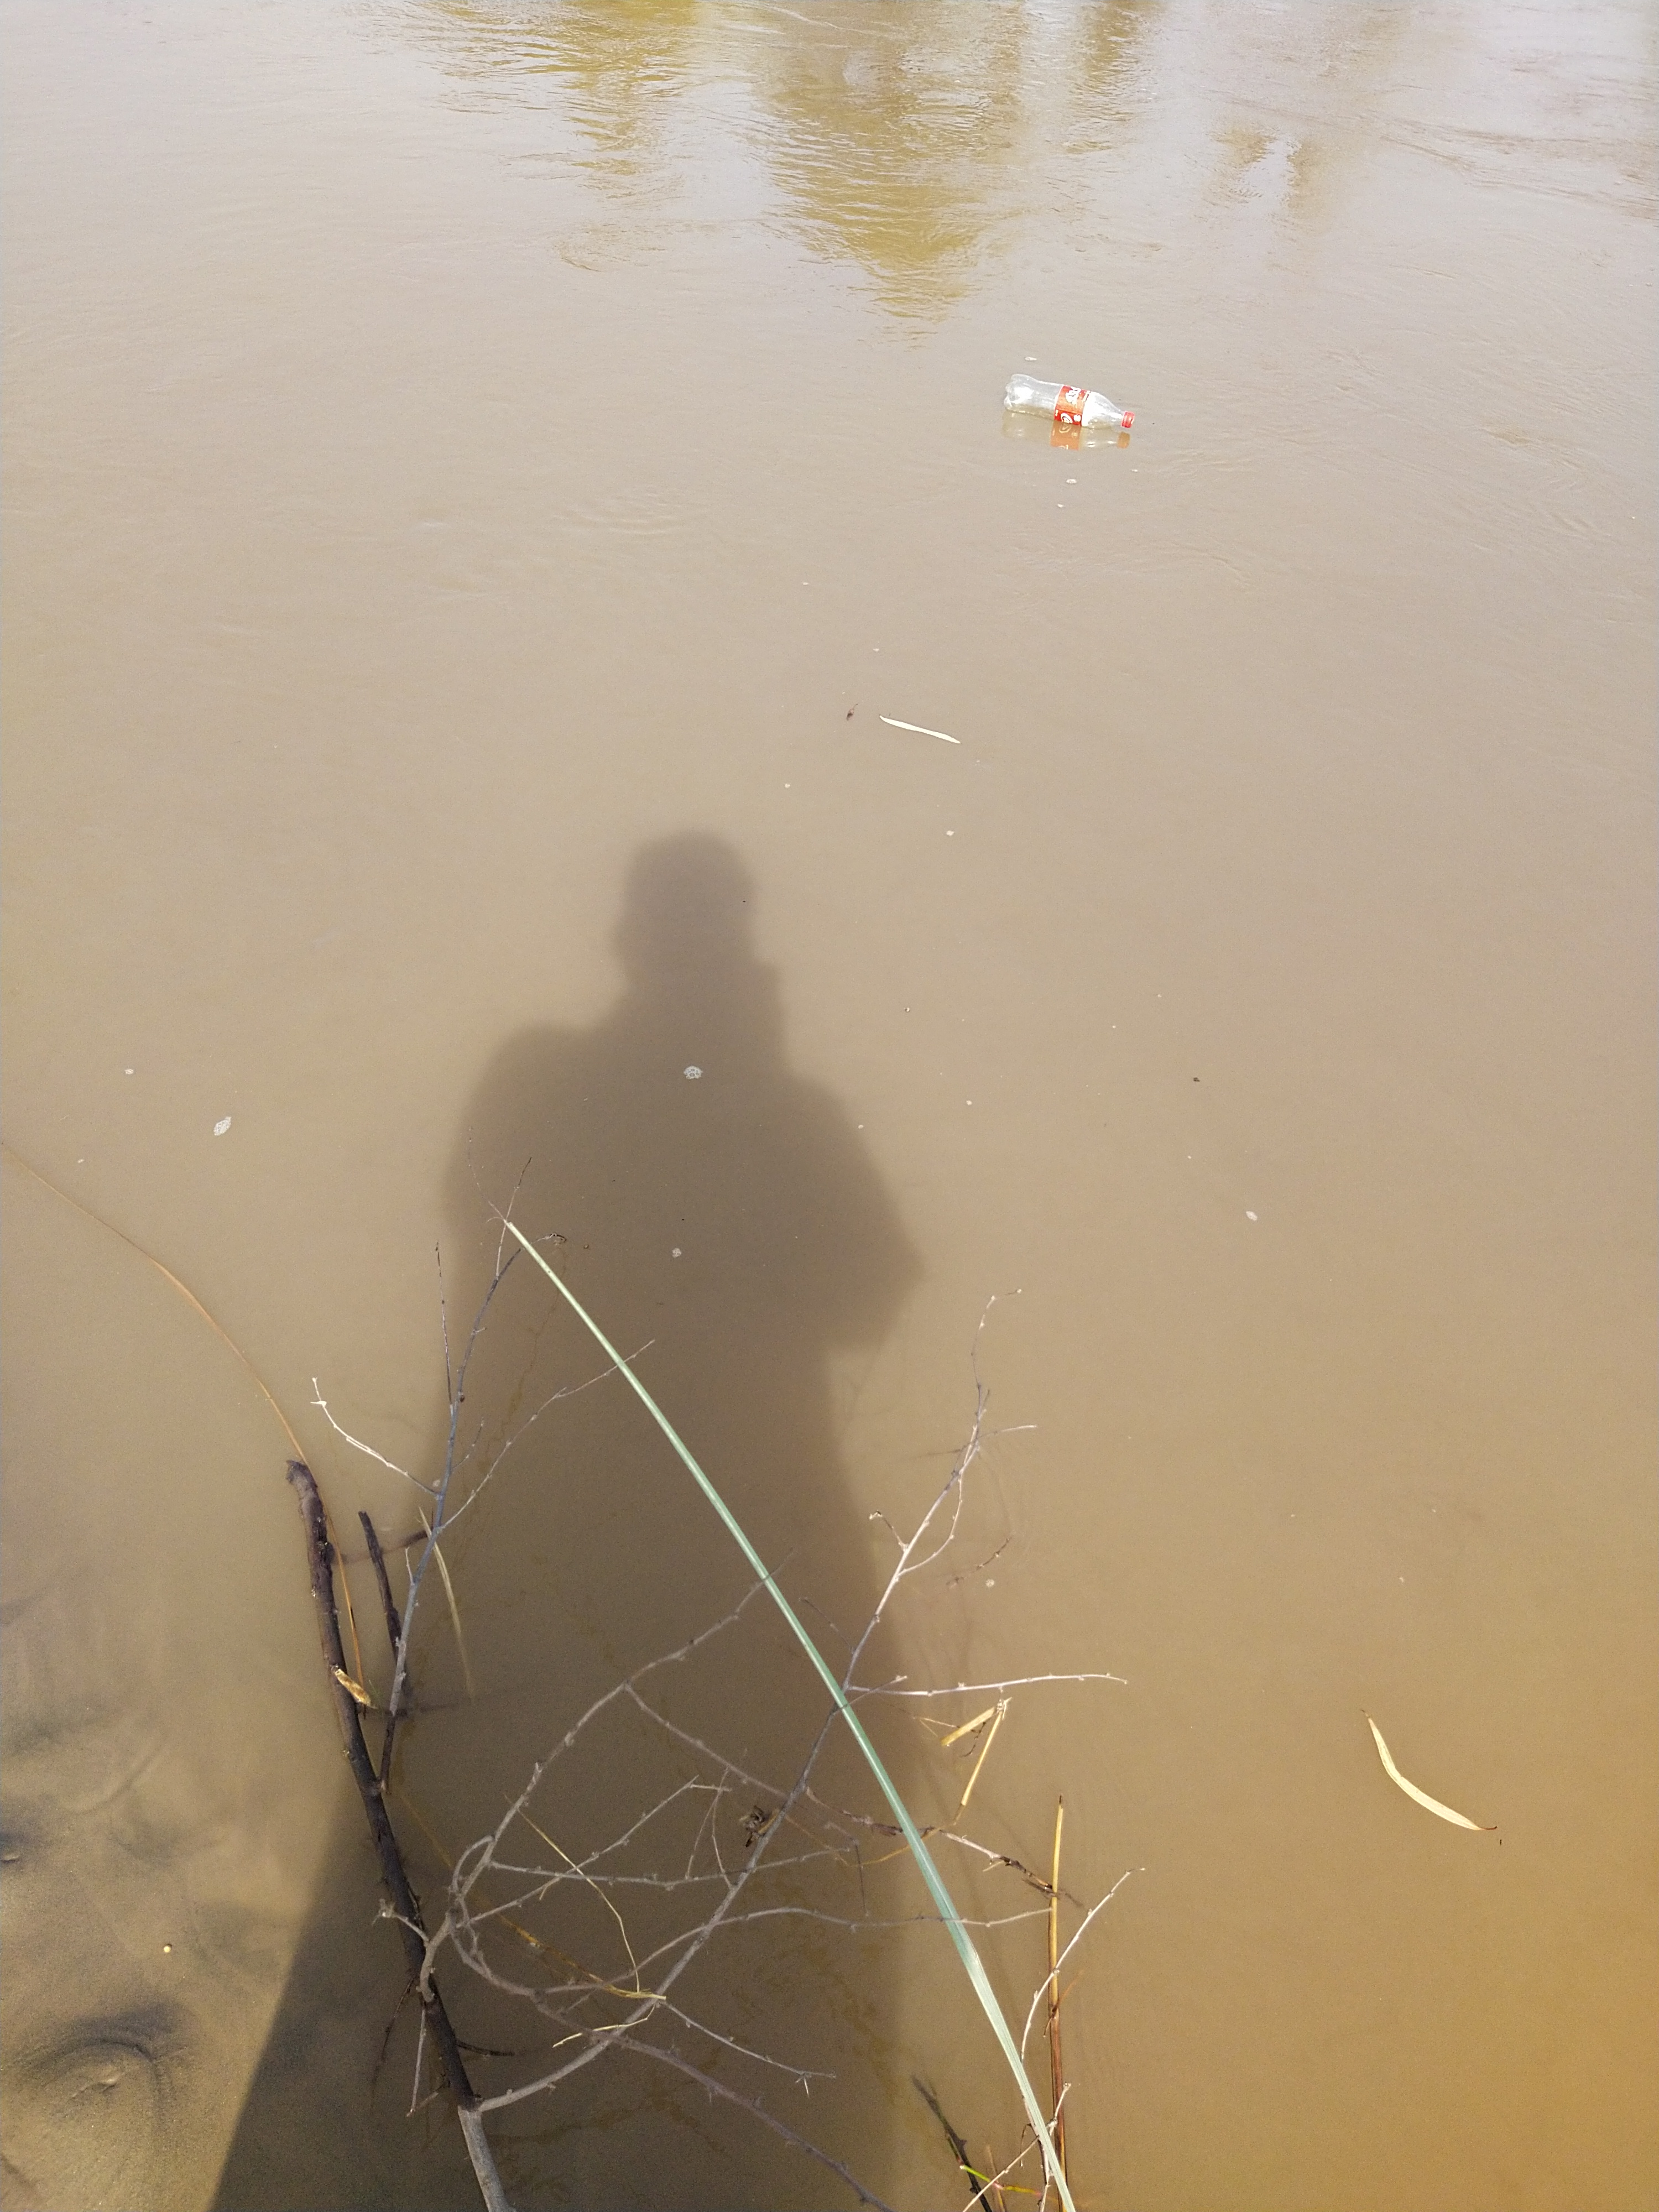Plastic Bottle: (1006, 374, 1134, 428)
